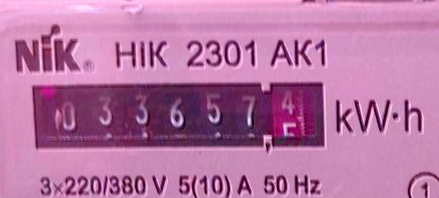0: (58, 98, 79, 135)
3: (96, 94, 115, 129), (132, 93, 150, 128)
4: (279, 88, 298, 118)
5: (202, 91, 224, 127)
6: (166, 96, 186, 131)
7: (239, 93, 257, 129)
screen: (20, 76, 333, 158)
